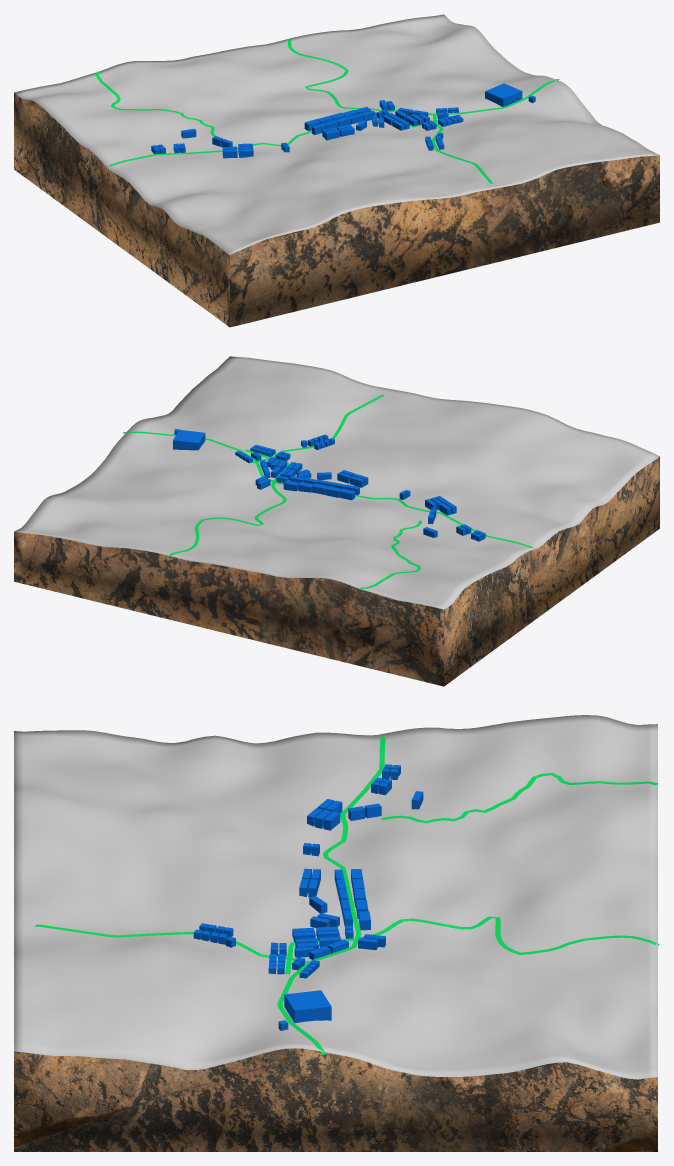
The model's file is hulin.gltf.
3 views of the same model, one above another, from view 1: azimuth 30°, elevation 25°; view 2: azimuth 150°, elevation 25°; view 3: azimuth 270°, elevation 25° (orthographic). The views are drawn at different scales.
Visible parts, largest first — view 1: EXPORT_GOOGLE_SAT_WM.001, road.003, 立方体.027, road.002; view 2: EXPORT_GOOGLE_SAT_WM.001, road.003, road.002, 立方体.027; view 3: EXPORT_GOOGLE_SAT_WM.001, road.003, road.002, 立方体.027, road.004.
Boxes of the visible parts, x1=… form: EXPORT_GOOGLE_SAT_WM.001: x1=14, y1=14, x2=659, y2=327; road.003: x1=109, y1=79, x2=559, y2=166; 立方体.027: x1=485, y1=83, x2=522, y2=106; road.002: x1=287, y1=39, x2=461, y2=127; EXPORT_GOOGLE_SAT_WM.001: x1=14, y1=356, x2=659, y2=686; road.003: x1=123, y1=431, x2=535, y2=548; road.002: x1=168, y1=449, x2=289, y2=556; 立方体.027: x1=173, y1=430, x2=205, y2=450; EXPORT_GOOGLE_SAT_WM.001: x1=14, y1=715, x2=657, y2=1151; road.003: x1=277, y1=735, x2=385, y2=1054; road.002: x1=285, y1=916, x2=659, y2=974; 立方体.027: x1=284, y1=990, x2=331, y2=1023; road.004: x1=381, y1=772, x2=658, y2=823.
Size of the model in its own units: 1771 by 340 by 1533.
